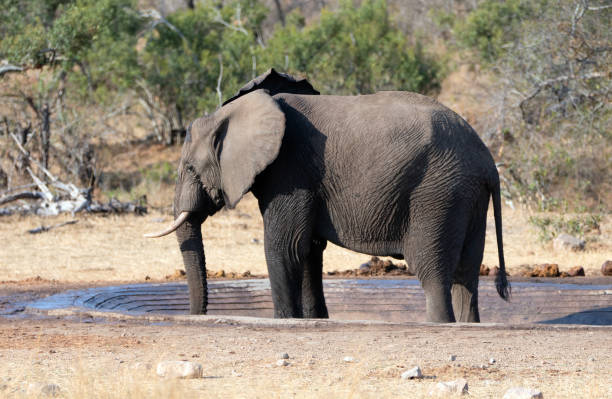africanelephant: (144, 90, 277, 263)
